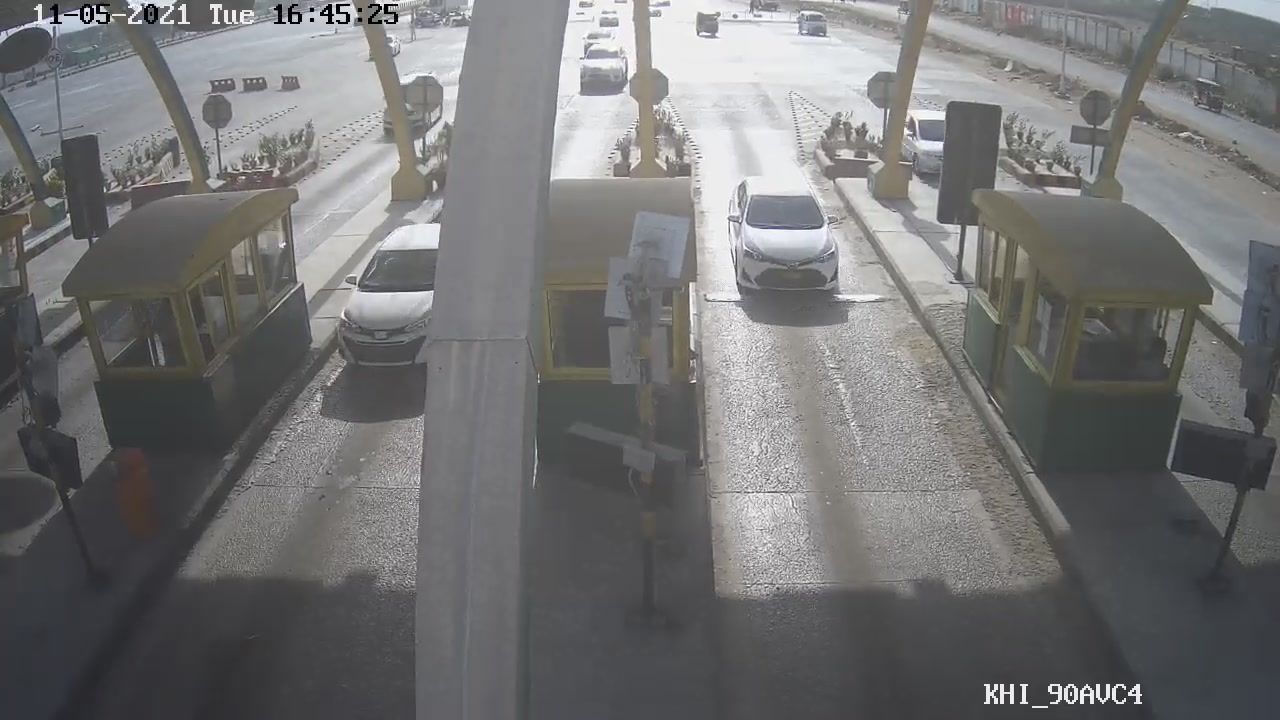F1: (718, 169, 849, 301)
